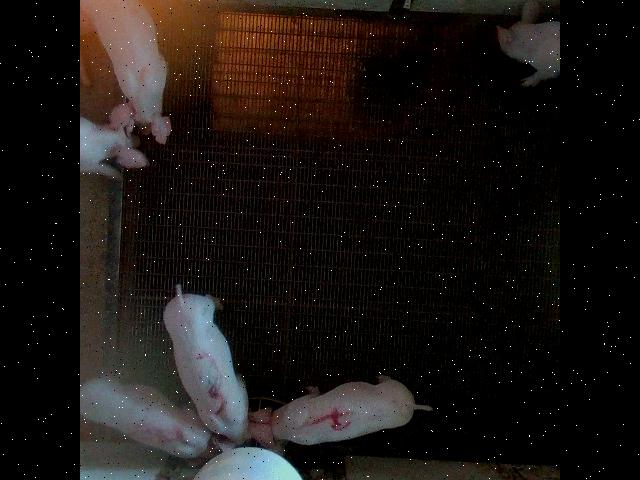pig-3: (164, 284, 274, 446)
pig-4: (251, 375, 432, 444)
pig-5: (81, 376, 211, 456)
